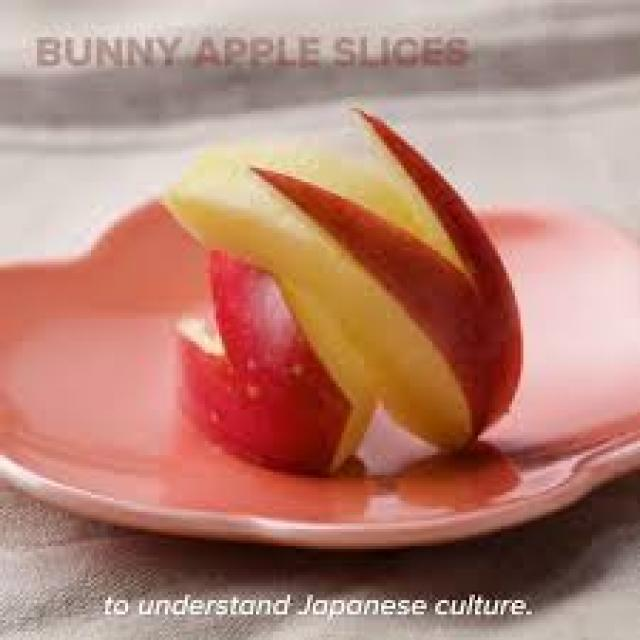Apple: (165, 108, 535, 448), (161, 253, 371, 479)
